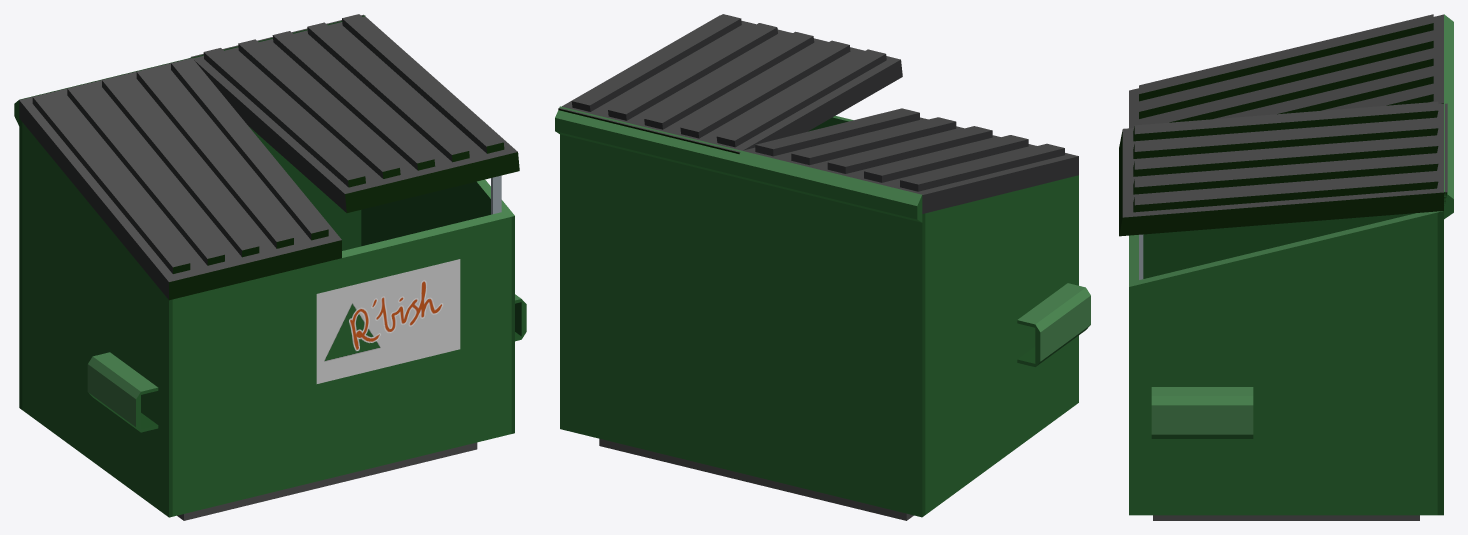
Rendered from BinLarge.fbx.
The picture shows the model from 3 angles, left to right: view 1: azimuth 30°, elevation 25°; view 2: azimuth 150°, elevation 25°; view 3: azimuth 270°, elevation 25°; orthographic projection. The views are drawn at different scales.
Parts seen in each view (by area): view 1: BinMain, BinLidL, BinLidR; view 2: BinMain, BinLidR, BinLidL; view 3: BinMain, BinLidR, BinLidL.
Boxes of the visible parts, x1,y1,x2,y2 form: BinMain: (14,15,526,520); BinLidL: (19,58,341,300); BinLidR: (190,14,519,212); BinMain: (555,106,1090,520); BinLidR: (558,14,902,154); BinLidL: (742,108,1078,213); BinMain: (1129,14,1453,520); BinLidR: (1119,101,1447,236); BinLidL: (1129,14,1443,128).
Bounding box in the file's own units: 226 × 183 × 159.
